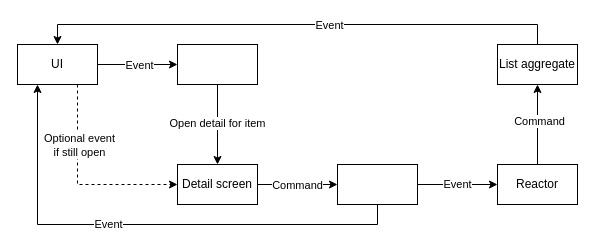
Some shapes in this 595 by 250 pixel diagram are drawn without their labels. Here are the shapes that lost their labels. From the top down, the centre of each, then its label:
At (x=217, y=64): "List".
At (x=377, y=184): "Aggregate".
